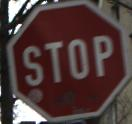Stop sign: (0, 0, 131, 123)
